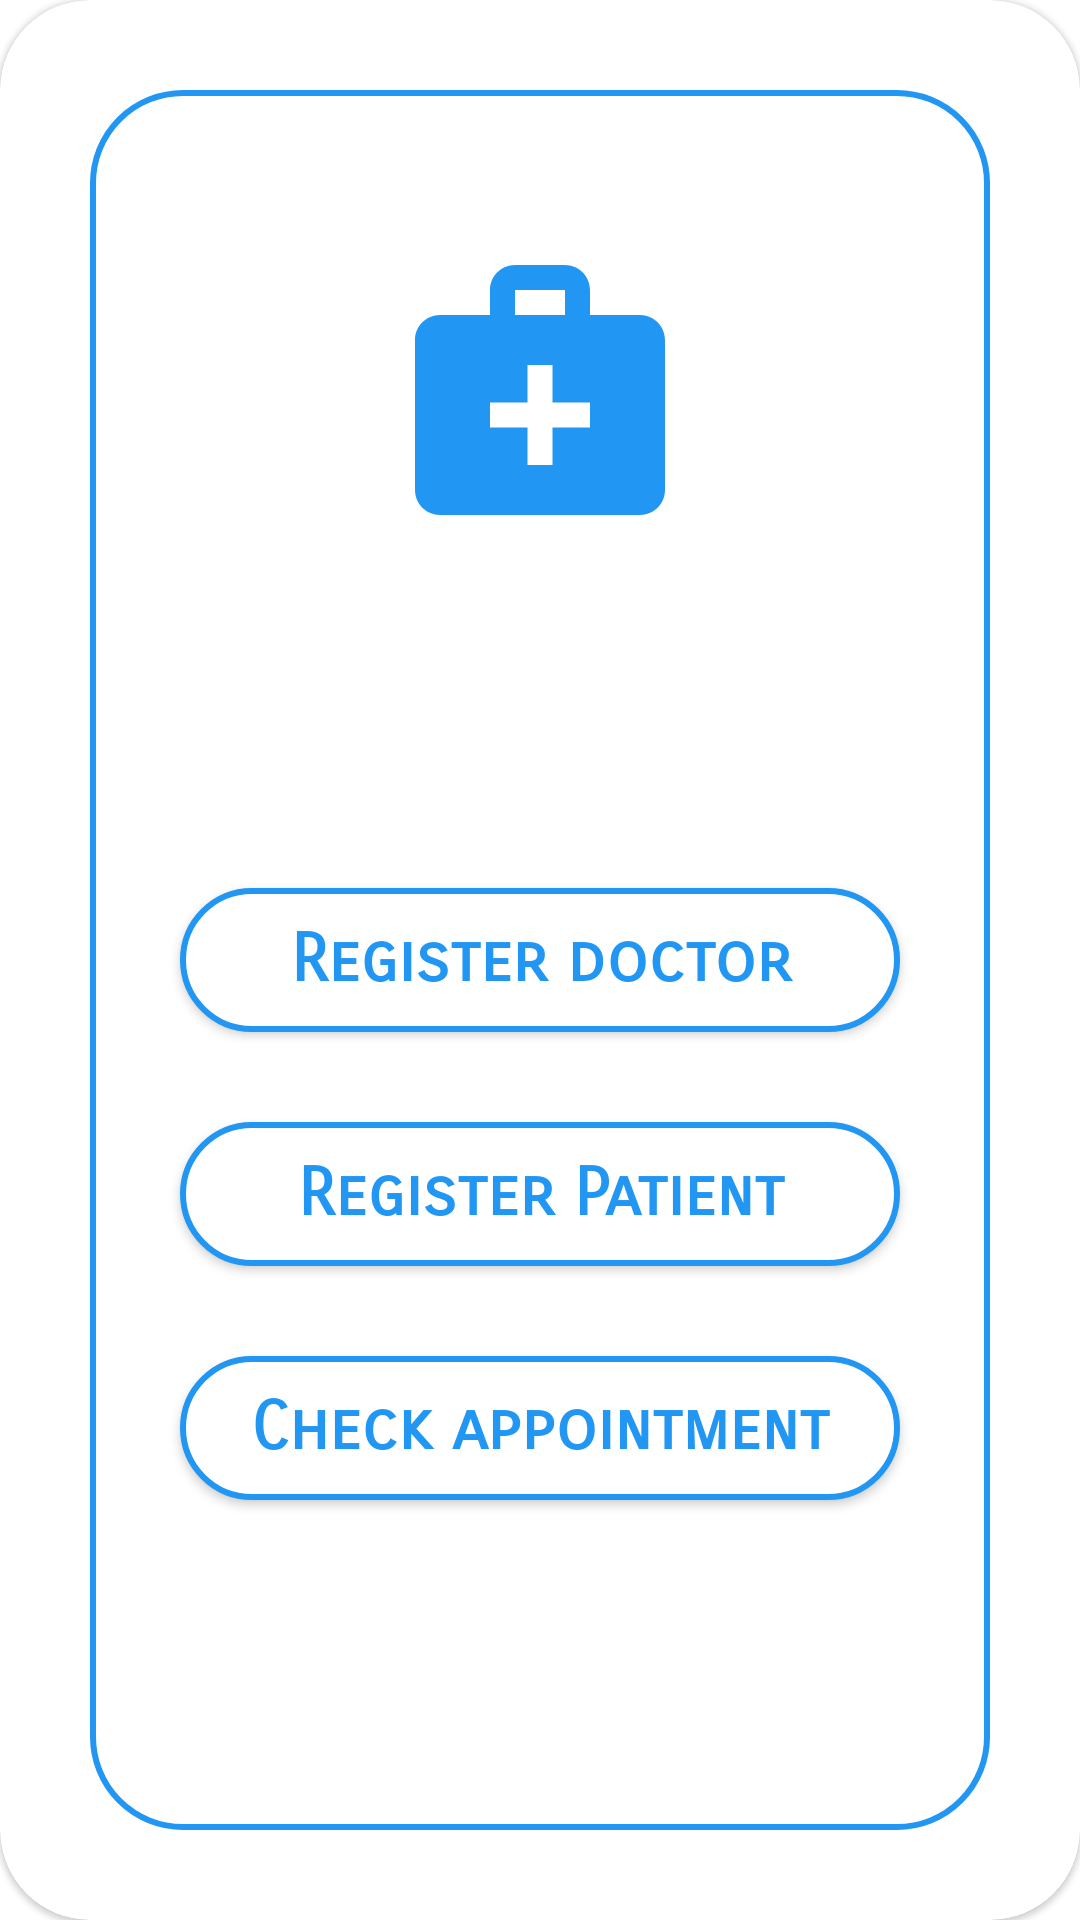

Point at icon controls on the screen. Image size 1080×1920, points as (x,y).
medical services: (540,390)
